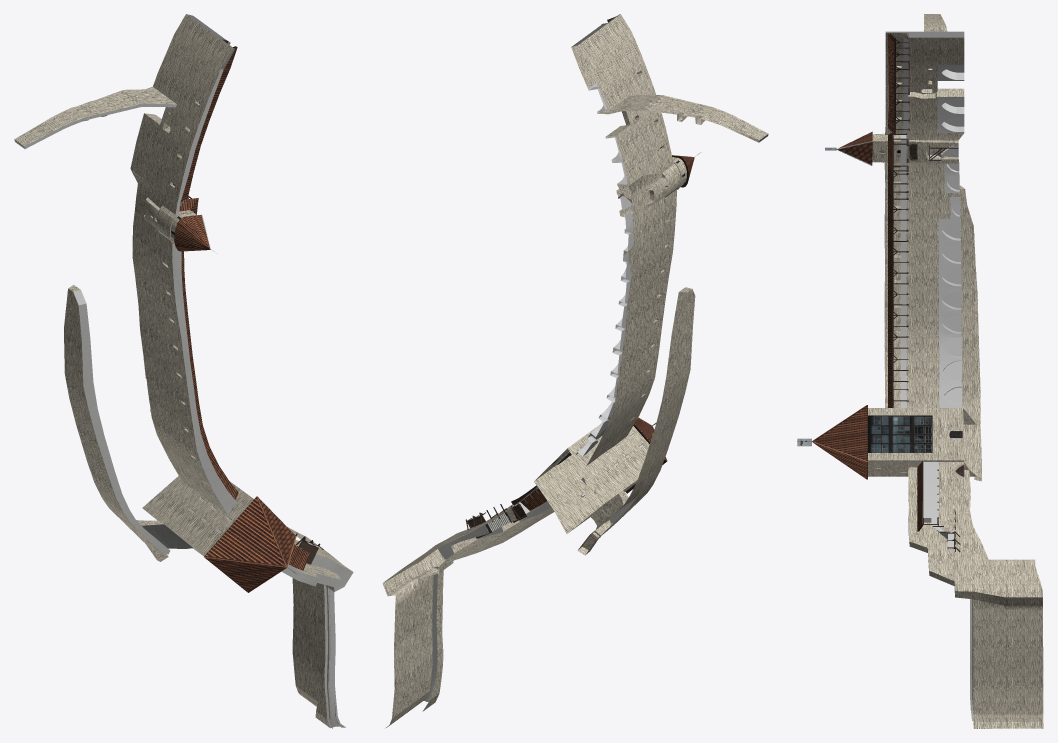
The model's file is Lyhike_jalg_9a_9b.obj.
3 views of the same model, side by side, from view 1: azimuth 30°, elevation 25°; view 2: azimuth 150°, elevation 25°; view 3: azimuth 270°, elevation 25° (orthographic). The views are drawn at different scales.
Parts seen in each view (by area): view 1: Lyhike_jalg_9a_9b; view 2: Lyhike_jalg_9a_9b; view 3: Lyhike_jalg_9a_9b.
Part boxes in pixels (x1,y1,x2,y2): Lyhike_jalg_9a_9b: (14, 14, 353, 728); Lyhike_jalg_9a_9b: (382, 14, 768, 727); Lyhike_jalg_9a_9b: (797, 14, 1043, 728).
Size of the model in its own units: 60.62 by 124 by 44.01.
